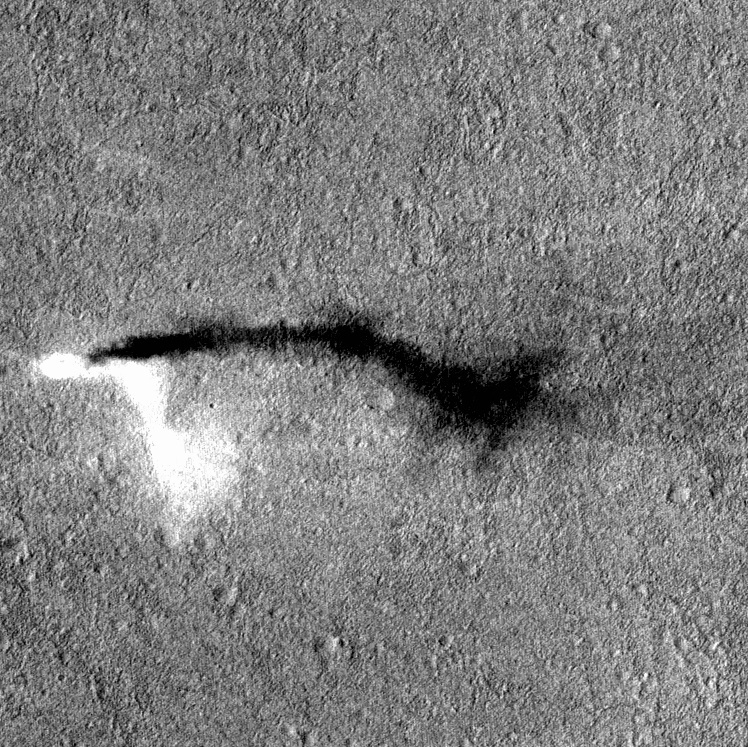dust_devil: (34, 297, 587, 525)
